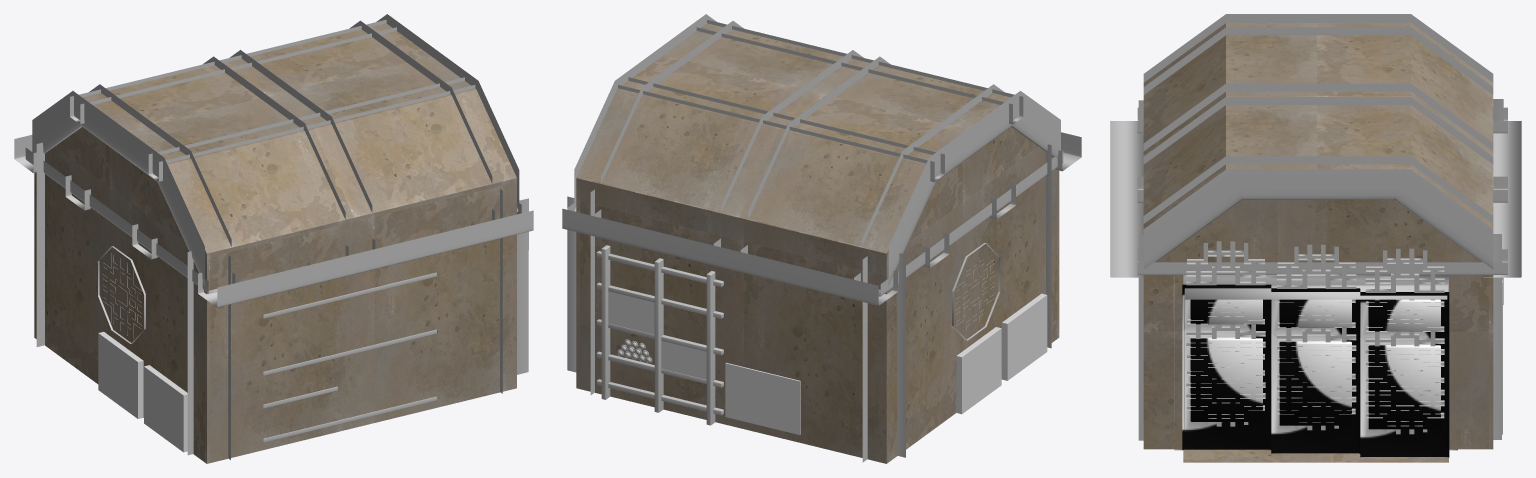
3 renders of one model, left to right at view 1: azimuth 30°, elevation 25°; view 2: azimuth 150°, elevation 25°; view 3: azimuth 270°, elevation 25°, orthographic.
Parts seen in each view (by area): view 1: Box002, Object019, Object008, Box026, Object021, Box007, Object023, Object022, Object020, Object018, Box070, Object010 (+6 smaller); view 2: Box002, Object019, Object015, Box013, Box021, Box007, Box026, Object021, Object022, Object023, Object020, Object018 (+14 smaller); view 3: Box002, Object021, Object025, Object024, Object012, Object019, Object020, Object008, Object010, Object015, Object017, MultiMesher011 (+11 smaller).
Part boxes in pixels (x1,y1,x2,y2): Box002: (34,23,516,463); Object019: (32,84,231,285); Object008: (198,210,533,307); Box026: (98,332,143,418); Object021: (349,14,519,211); Box007: (144,365,187,452); Object023: (148,77,475,181); Object022: (70,19,396,124); Object020: (203,50,372,219); Object018: (25,147,235,293); Box070: (187,251,230,459); Object010: (517,198,528,374); Box002: (576,23,1059,463); Object019: (861,84,1060,285); Object015: (562,208,897,305); Box013: (725,362,800,434); Box021: (862,253,905,462); Box007: (1002,293,1047,380); Box026: (956,327,1001,414); Object021: (574,14,743,211); Object022: (618,77,944,181); Object023: (696,19,1023,124); Object020: (721,50,890,218); Object018: (854,151,1063,296); Box002: (1143,23,1493,462); Object021: (1143,156,1493,269); Object025: (1360,292,1449,457); Object024: (1271,288,1360,453); Object012: (1182,284,1271,449); Object019: (1143,14,1493,94); Object020: (1143,83,1493,164); Object008: (1110,121,1148,277); Object010: (1173,275,1457,450); Object015: (1483,121,1521,277); Object017: (1137,249,1507,274); MultiMesher011: (1365,248,1444,314).
Size of the model in its own units: 499 by 387 by 508.
